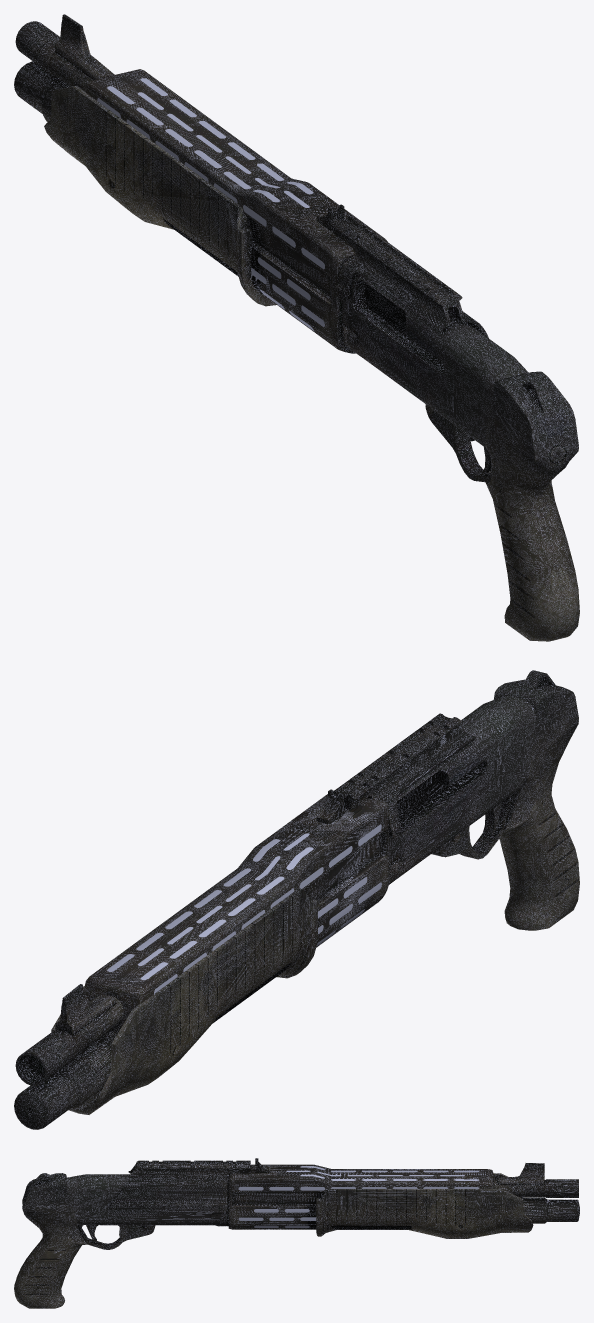
File: Shotgun.dae
The picture shows the model from 3 angles, top to bottom: view 1: azimuth 30°, elevation 25°; view 2: azimuth 150°, elevation 25°; view 3: azimuth 270°, elevation 25°; orthographic projection. The views are drawn at different scales.
Parts seen in each view (by area): view 1: skp7B (×9); view 2: skp7B (×10); view 3: skp7B (×9).
Part boxes in pixels (x1,y1,x2,y2): skp7B (×9): [14, 14, 579, 641]; skp7B (×10): [14, 670, 579, 1129]; skp7B (×9): [14, 1160, 579, 1308].
Bounding box in the file's own units: 1887 × 22872 × 6391.
